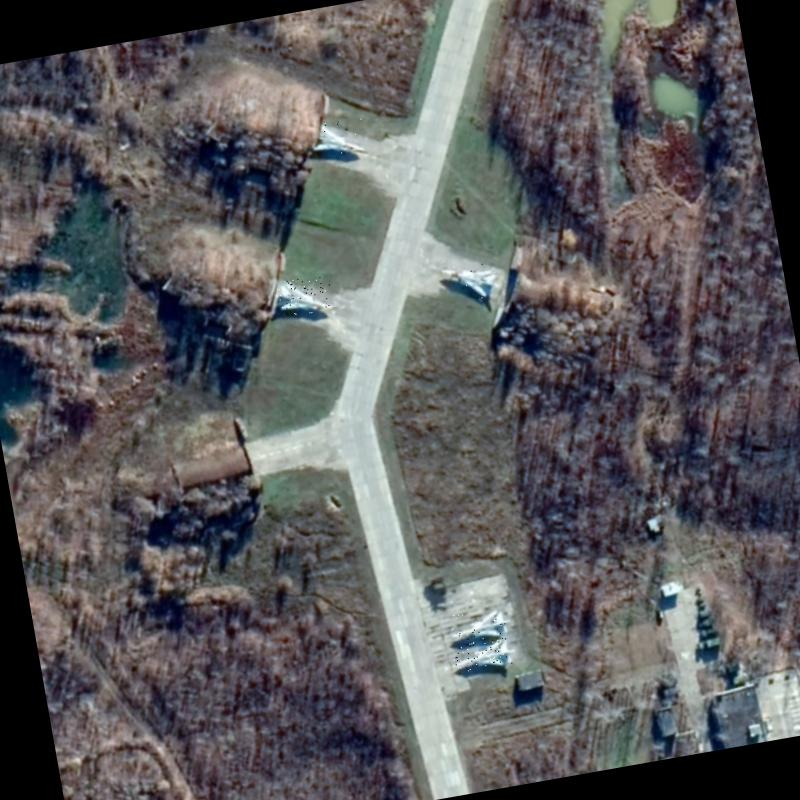A20: (440, 258, 502, 304), (276, 274, 334, 320), (310, 115, 368, 160), (451, 634, 514, 674), (447, 606, 512, 644)
